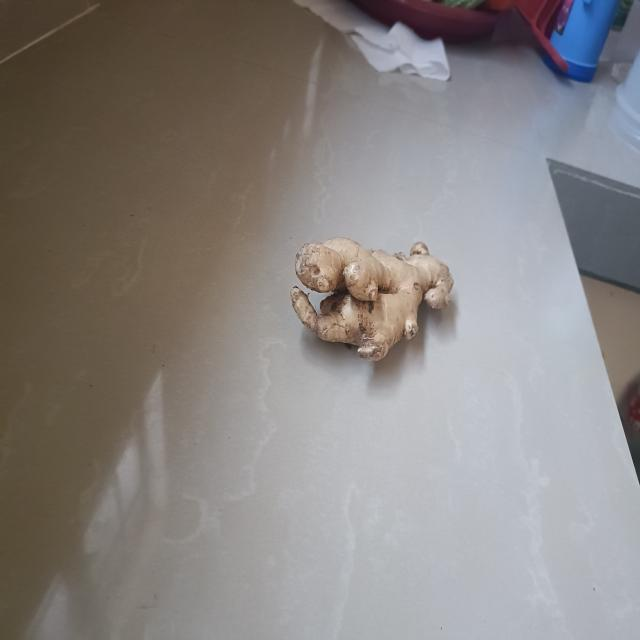ginger: (287, 230, 458, 364)
